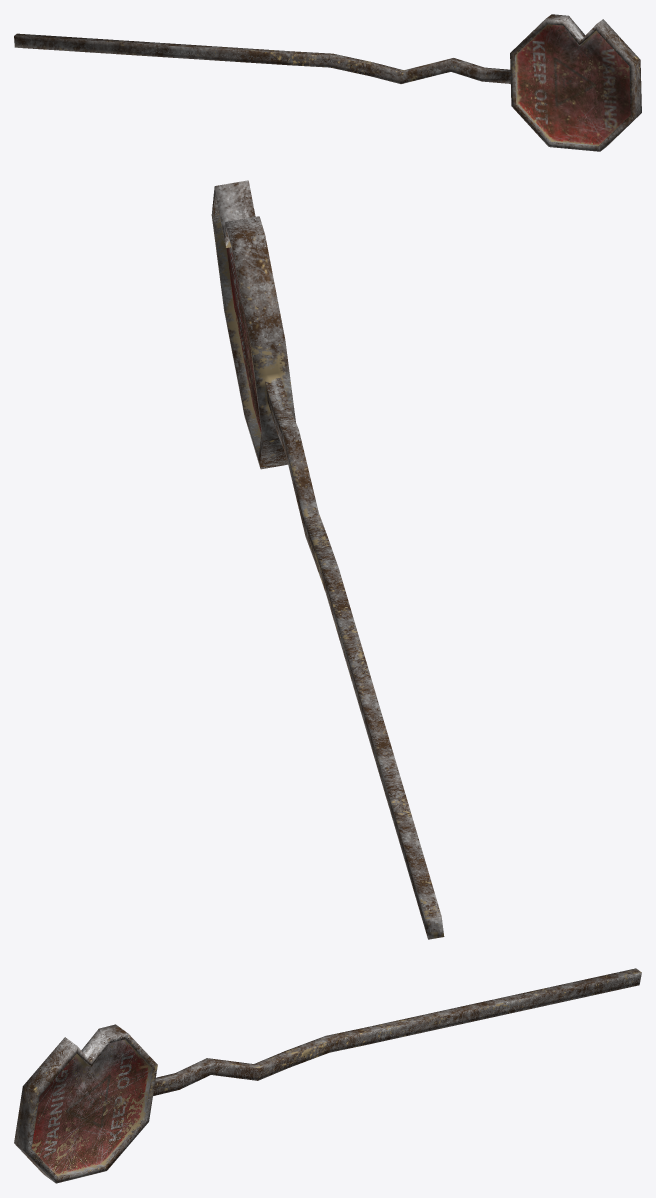
The model's file is Anim_idle_senyal_objetos.0051.obj.
3 views of the same model, one above another, from view 1: azimuth 30°, elevation 25°; view 2: azimuth 150°, elevation 25°; view 3: azimuth 270°, elevation 25° (orthographic). The views are drawn at different scales.
Bounding box in the file's own units: 7.99 × 2.59 × 9.97.
